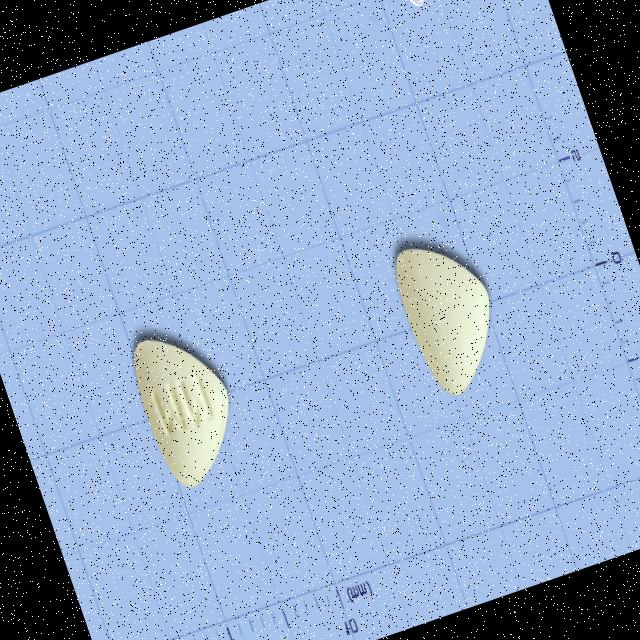Leflunomide: (122, 316, 254, 494), (384, 228, 516, 403)
